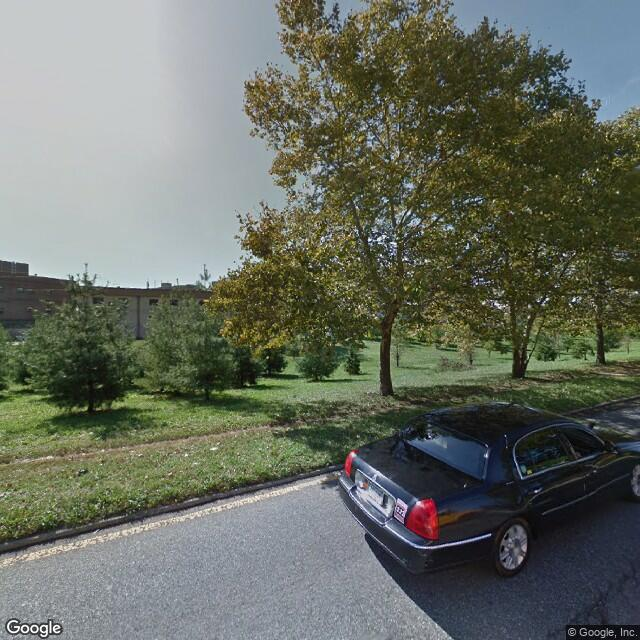litter: (74, 468, 91, 477), (184, 451, 192, 458), (211, 445, 222, 450), (357, 435, 363, 440)
